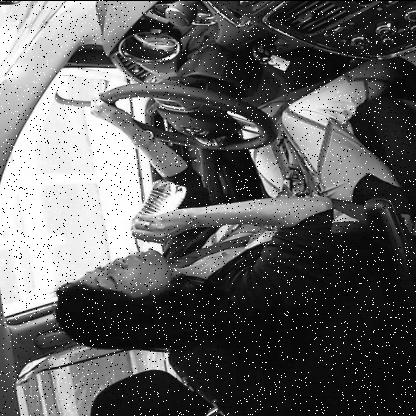seatbelt: (46, 212, 346, 356)
